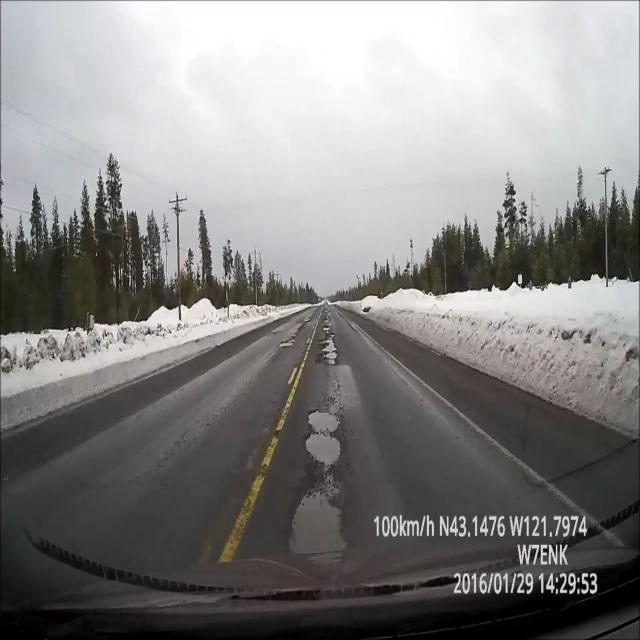Pothole: (300, 390, 348, 566), (315, 302, 342, 369)
